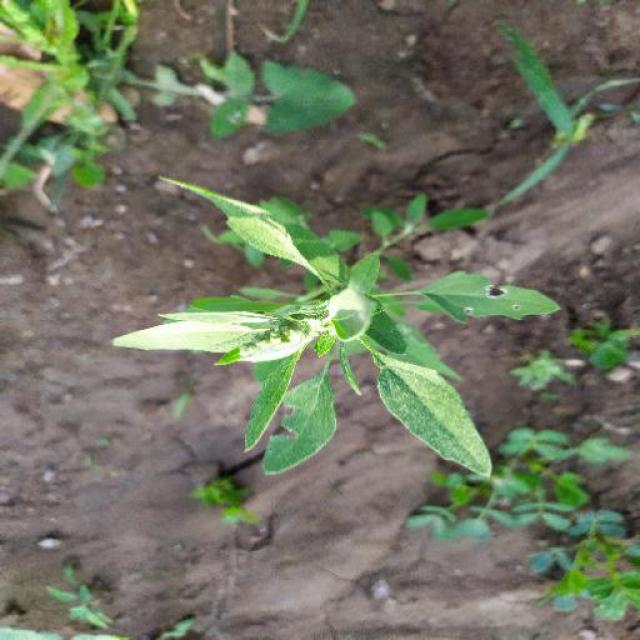weed: (110, 165, 560, 490)
